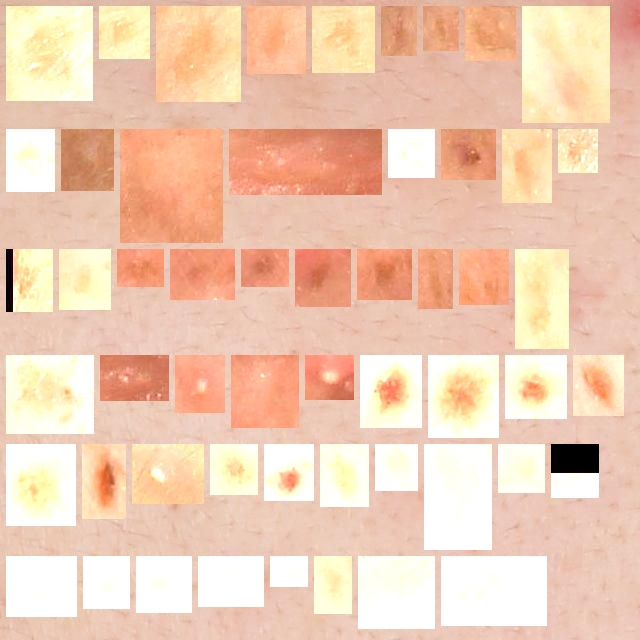hypertrophic_scar: (128, 137, 215, 235), (237, 137, 374, 187), (239, 363, 291, 420), (69, 137, 106, 183), (108, 363, 161, 393)
melasma: (530, 14, 602, 115), (14, 14, 85, 93), (164, 14, 233, 94), (449, 564, 539, 618), (432, 452, 484, 542), (14, 363, 86, 426), (366, 564, 427, 621), (523, 257, 561, 341), (14, 564, 69, 609), (320, 14, 367, 65), (255, 14, 298, 66), (510, 137, 544, 195), (206, 564, 256, 599), (178, 257, 227, 292), (303, 257, 343, 299), (144, 564, 184, 605), (67, 257, 103, 302), (14, 137, 47, 184), (328, 452, 361, 499), (14, 257, 45, 304), (473, 14, 508, 53), (449, 137, 488, 172), (365, 257, 404, 292), (467, 257, 501, 297), (107, 14, 142, 51), (559, 452, 591, 490), (91, 564, 122, 601), (506, 452, 537, 485), (322, 564, 344, 606), (383, 452, 410, 483), (426, 257, 445, 301), (249, 257, 281, 279), (125, 257, 156, 279), (389, 14, 409, 48), (566, 137, 590, 165), (431, 14, 451, 43), (278, 564, 300, 579)
nevus: (436, 363, 491, 430), (14, 452, 68, 518), (368, 363, 414, 420), (513, 363, 559, 411), (90, 452, 118, 511), (581, 363, 616, 408), (272, 452, 306, 493), (218, 452, 250, 487)
pustule: (140, 452, 196, 496), (183, 363, 217, 405), (396, 137, 427, 170), (313, 363, 346, 392)
